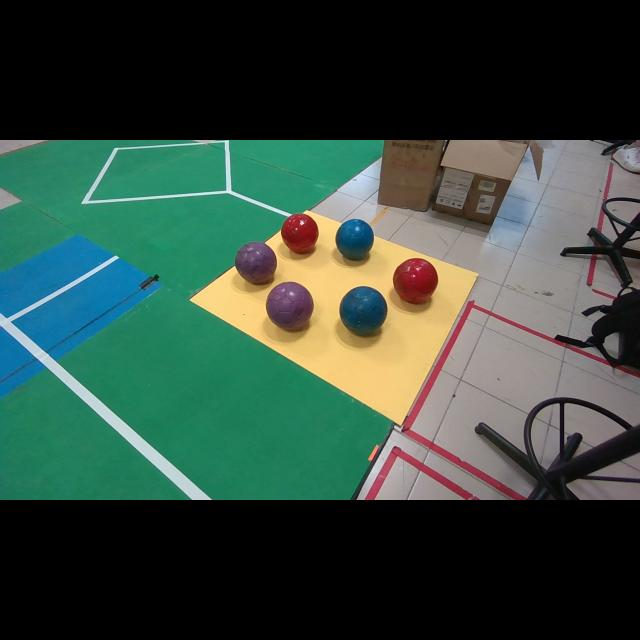B: (340, 286, 388, 336), (335, 219, 374, 260)
P: (266, 282, 314, 330), (235, 241, 276, 284)
R: (392, 259, 438, 304), (281, 214, 319, 254)
